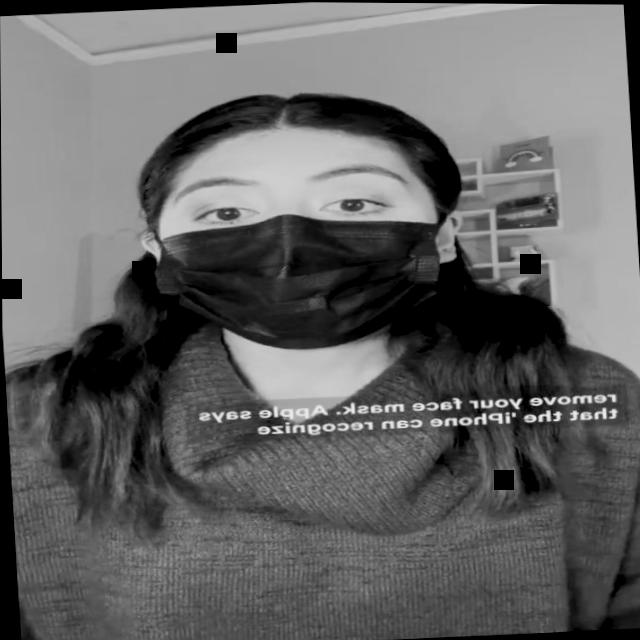Mask: (132, 114, 464, 361)
